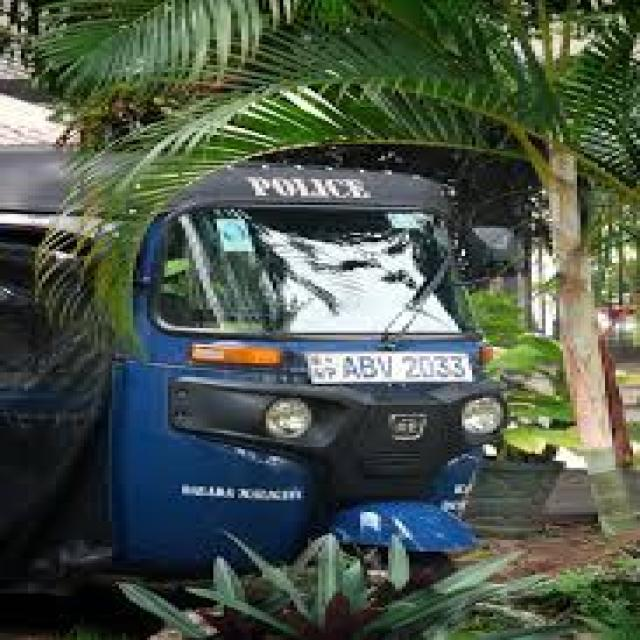tuktuk: (0, 51, 562, 640)
